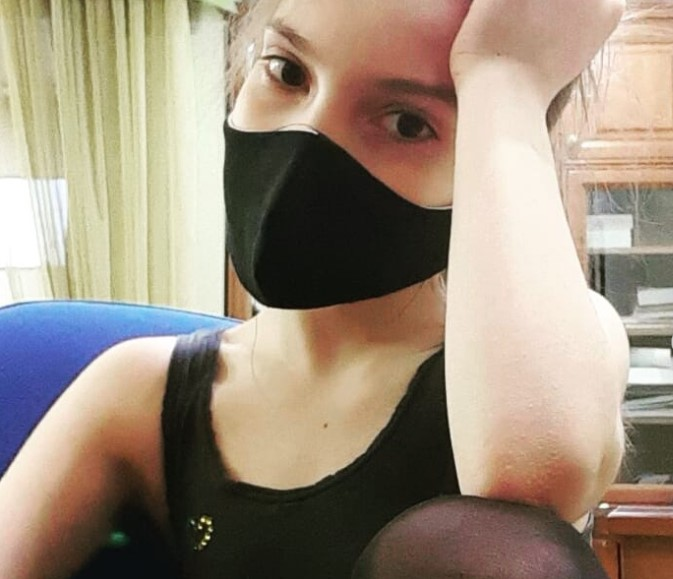face_with_mask: (218, 3, 586, 322)
